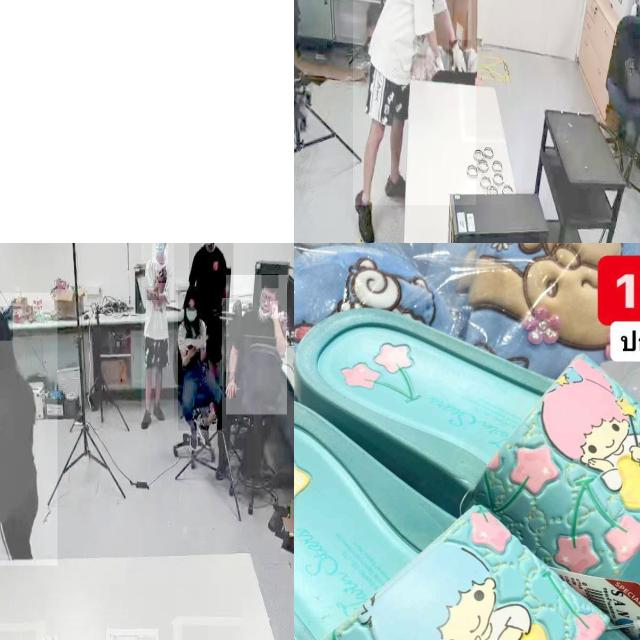Sandals: (294, 298, 640, 640)
face_mask: (151, 243, 168, 264), (186, 296, 198, 324)
face_nomask: (260, 289, 274, 316)
hand_glove: (449, 40, 471, 79)
hand_noglove: (224, 372, 237, 398), (154, 270, 168, 284), (145, 286, 159, 300), (270, 301, 278, 319)
head_nohelmet: (0, 306, 13, 341), (261, 274, 279, 289), (186, 284, 200, 299)
person: (353, 0, 476, 206), (0, 292, 57, 566), (226, 275, 288, 415), (178, 286, 222, 432), (141, 243, 174, 423), (189, 243, 234, 299)
shoes: (351, 186, 378, 243), (380, 169, 418, 199), (197, 417, 213, 451), (188, 416, 200, 451), (151, 400, 165, 424), (140, 408, 152, 430)
